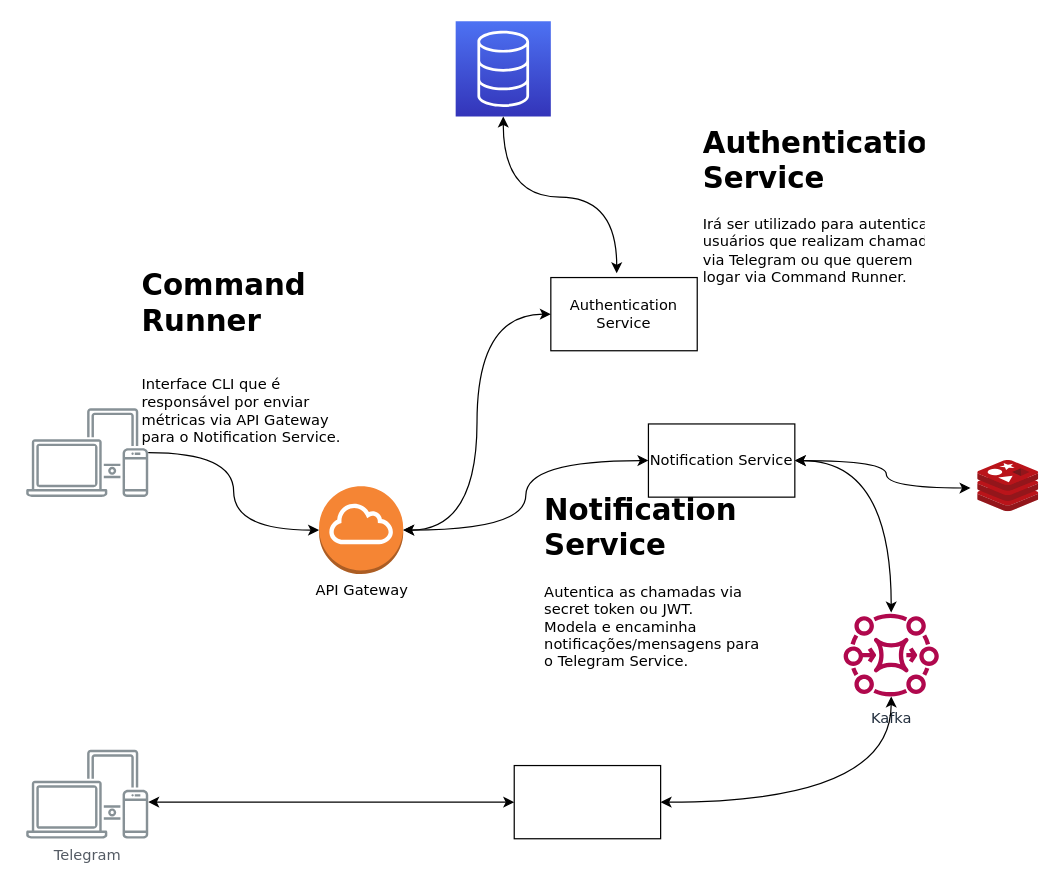
Some shapes in this 1059 by 886 pixel diagram are drawn without their labels. The centre of each missing label's shape, as x and y in pixels:
Command Runner: point 87,452
Mongo DB: point 502,68
Telegram Service: point 587,801
